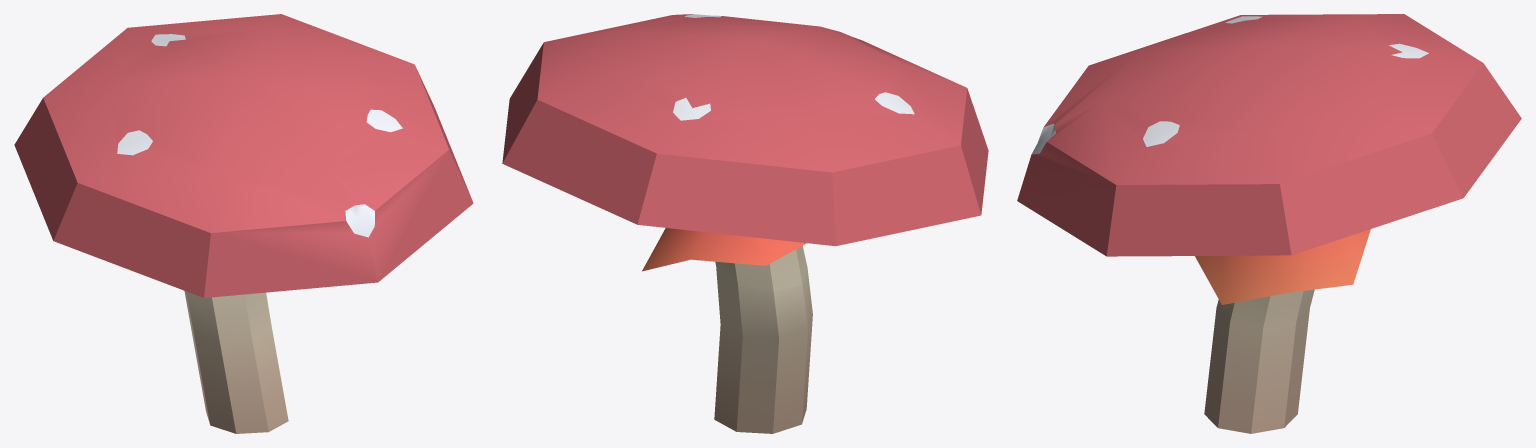
3 renders of one model, left to right at view 1: azimuth 30°, elevation 25°; view 2: azimuth 150°, elevation 25°; view 3: azimuth 270°, elevation 25°, orthographic. The views are drawn at different scales.
Parts seen in each view (by area): view 1: Cylinder_4; view 2: Cylinder_4; view 3: Cylinder_4.
Boxes of the visible parts, x1=… form: Cylinder_4: x1=14, y1=14, x2=473, y2=433; Cylinder_4: x1=502, y1=14, x2=988, y2=433; Cylinder_4: x1=1017, y1=14, x2=1521, y2=433.
Bounding box in the file's own units: 181 × 145 × 180.
